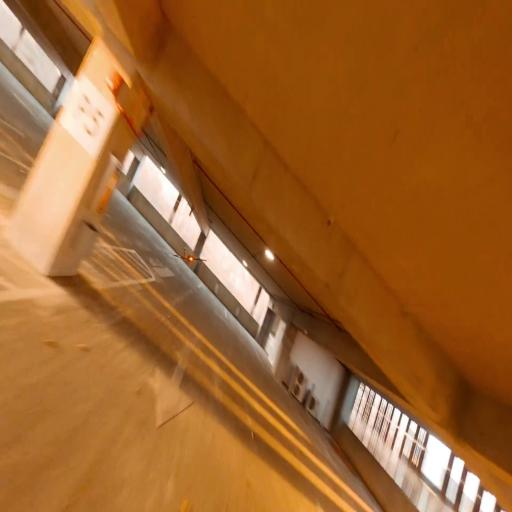uav: (172, 246, 207, 266)
